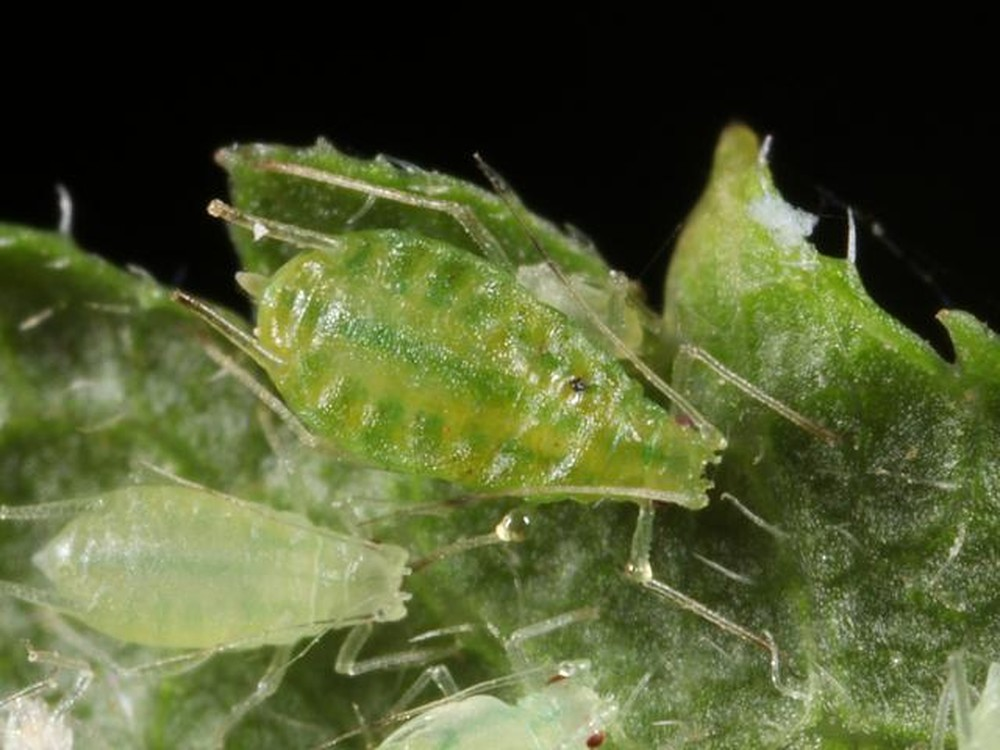Pulgon: (9, 140, 651, 594), (11, 452, 473, 695), (359, 642, 626, 750)
